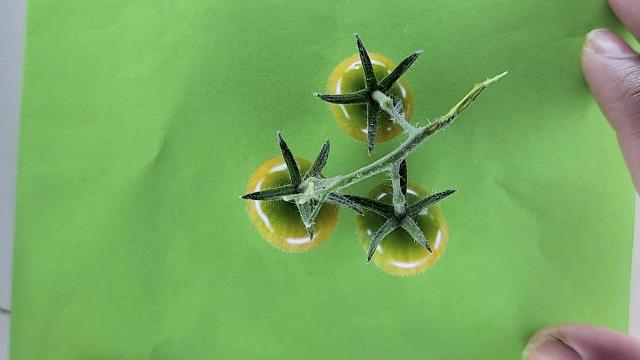Fully Grown: (244, 154, 340, 253), (356, 180, 450, 276), (325, 53, 413, 144)
